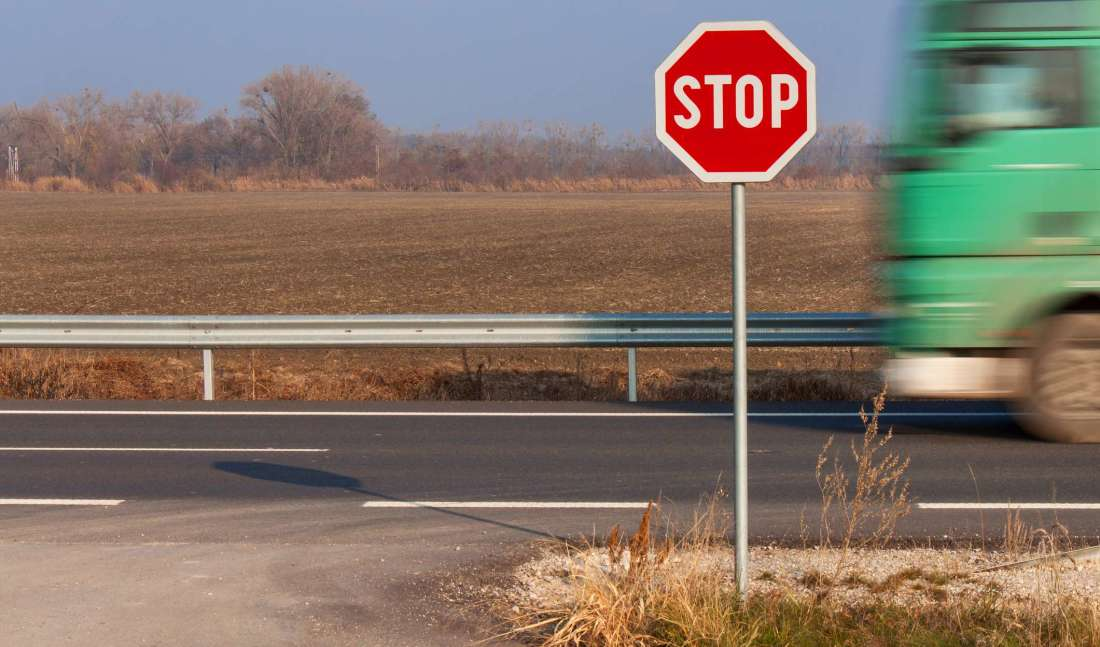stopsign: (655, 16, 816, 185)
